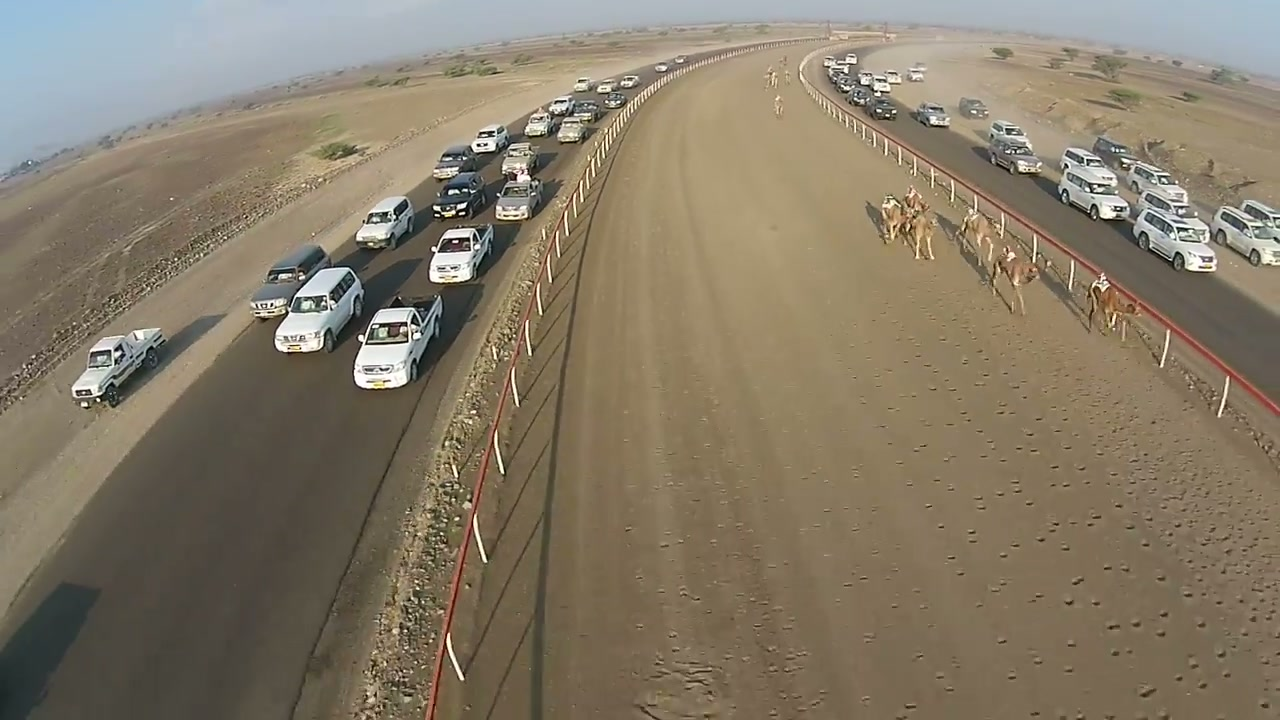animal_footprint: (910, 275, 1271, 702)
